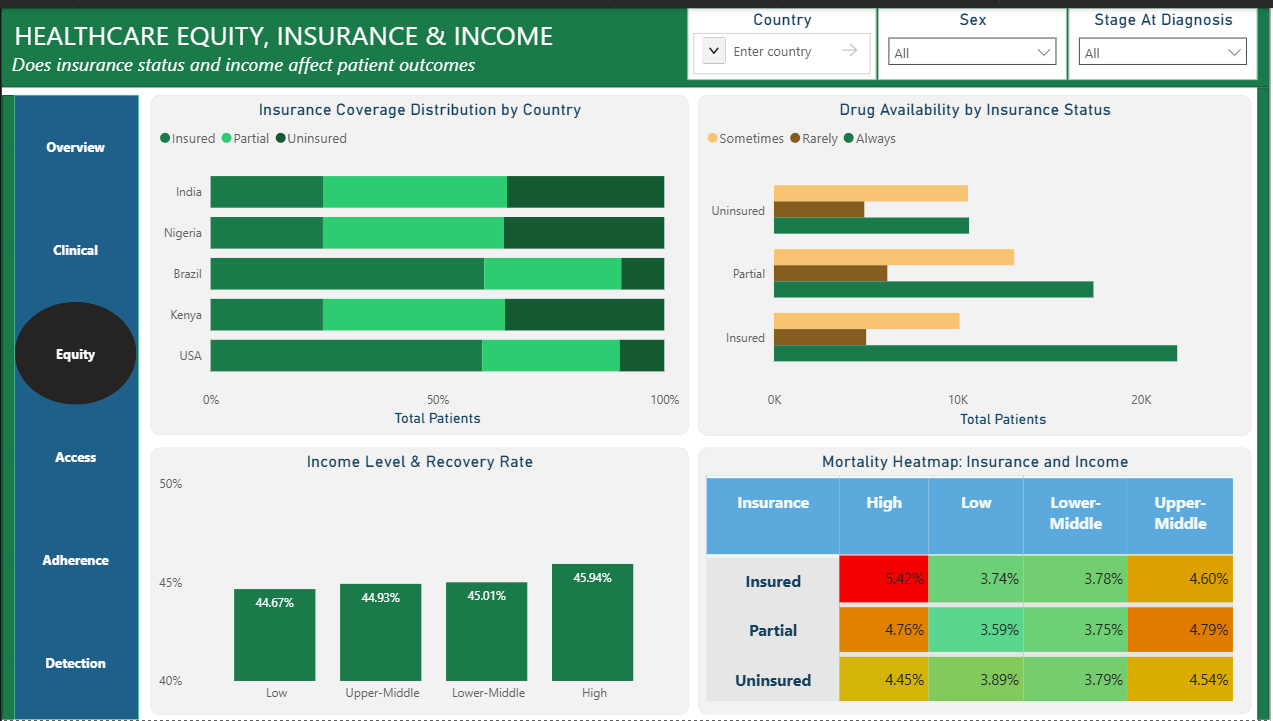

This screenshot's page, from the dashboard's own definition file:
{"tool":"powerbi","page":{"name":"Equity","canvas":[1280,720],"ordinal":2},"visuals":[{"type":"shape","box":[0,0,1279.4,80],"z":0},{"type":"shape","box":[1267.4,81,12,639],"z":1000},{"type":"shape","box":[0,87.8,12.1,631.4],"z":2000},{"type":"textbox","box":[0.6,3,1279.4,74],"z":3000},{"type":"textSlicer","title":"Country","fields":{"Values":["ckd_clean.country"]},"box":[691.9,0,190.8,72.7],"z":4000},{"type":"slicer","title":"Sex","fields":{"Values":["ckd_clean.sex"]},"box":[884.9,0,190.8,72.7],"z":5000},{"type":"slicer","title":"Stage At Diagnosis","fields":{"Values":["ckd_clean.disease_stage_at_diagnosis"]},"box":[1076.9,0,190.8,72.7],"z":6000},{"type":"pageNavigator","box":[12.1,87.8,125.7,631.4],"z":7000},{"type":"clusteredColumnChart","title":"Income Level & Recovery Rate","fields":{"Category":["ckd_clean.income_bracket"],"Y":["Measures (2).Recovery Rate %"]},"box":[149.9,443,543,270],"z":9000},{"type":"hundredPercentStackedBarChart","title":"Insurance Coverage Distribution by Country","fields":{"Category":["ckd_clean.country"],"Y":["Measures (2).Total Patients"],"Series":["ckd_clean.insurance_status"]},"box":[149.9,88,543,343],"z":10000},{"type":"pivotTable","title":"Mortality Heatmap: Insurance and Income","fields":{"Rows":["ckd_clean.insurance_status"],"Columns":["ckd_clean.income_bracket"],"Values":["Measures (2).Mortality Rate %"]},"box":[702.6,443.7,558.7,269.5],"z":11000},{"type":"clusteredBarChart","title":"Drug Availability by Insurance Status","fields":{"Y":["Measures (2).Total Patients"],"Category":["ckd_clean.insurance_status"],"Series":["ckd_clean.drug_availability"]},"box":[702.6,88,558.7,343.7],"z":12000}]}

Visuals, with their boxes in screenshot pixels (x1, y1, x2, y2), scaled from the page's 1280x720 canvas onto the 1273x721 screenshot:
shape: x1=0, y1=0, x2=1272, y2=80
shape: x1=1260, y1=81, x2=1272, y2=720
shape: x1=0, y1=88, x2=12, y2=720
textbox: x1=1, y1=3, x2=1272, y2=77
"Country" textSlicer: x1=688, y1=0, x2=878, y2=73
"Sex" slicer: x1=880, y1=0, x2=1070, y2=73
"Stage At Diagnosis" slicer: x1=1071, y1=0, x2=1261, y2=73
pageNavigator: x1=12, y1=88, x2=137, y2=720
"Income Level & Recovery Rate" clusteredColumnChart: x1=149, y1=444, x2=689, y2=714
"Insurance Coverage Distribution by Country" hundredPercentStackedBarChart: x1=149, y1=88, x2=689, y2=432
"Mortality Heatmap: Insurance and Income" pivotTable: x1=699, y1=444, x2=1254, y2=714
"Drug Availability by Insurance Status" clusteredBarChart: x1=699, y1=88, x2=1254, y2=432
